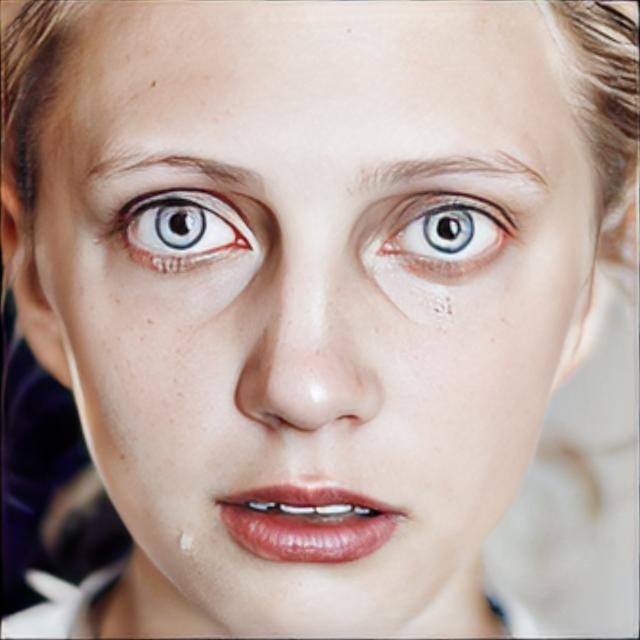fear: (33, 0, 600, 640)
